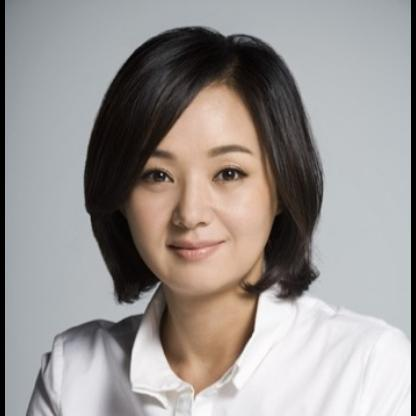Female: (126, 79, 276, 291)
